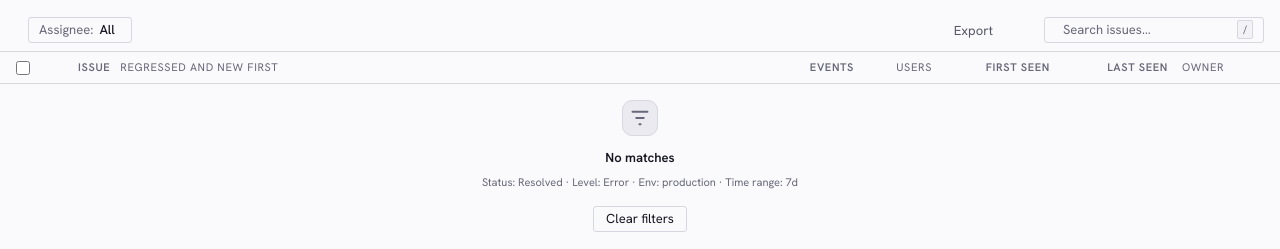
Test case: activeFilterSummary branches › includes all filter types in summary when all set
The width and height of the screenshot is (1280, 249).
Open assignee and pick "Me"
Click the button with class "filterchip" at coordinates (80, 30), box x1=28 y1=16 x2=132 y2=42
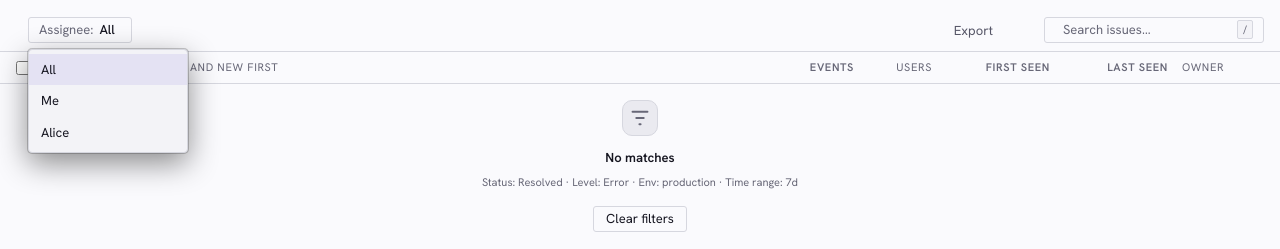
Click the button "Me" at coordinates (50, 100), box x1=41 y1=92 x2=59 y2=109
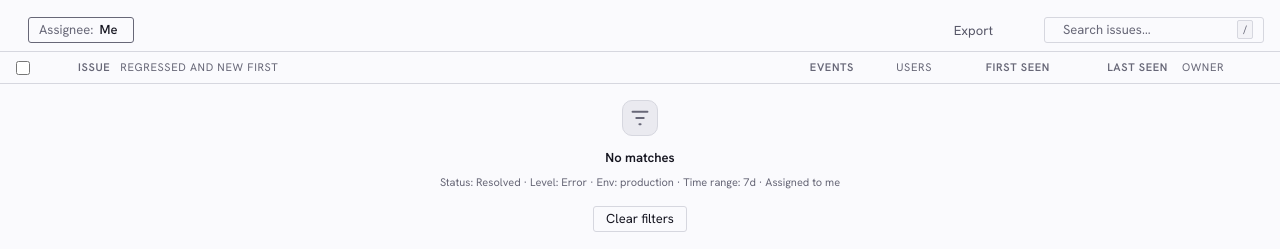
expect the text with class "empty-filter__body" is shown: met, box x1=440 y1=174 x2=840 y2=190
expect the text "Assigned to me" is shown: met, box x1=440 y1=174 x2=840 y2=188
